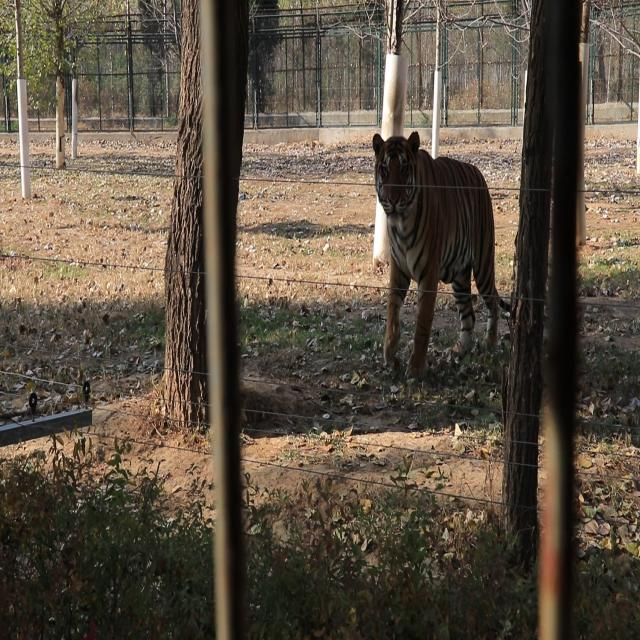Tiger: (361, 111, 508, 375)
